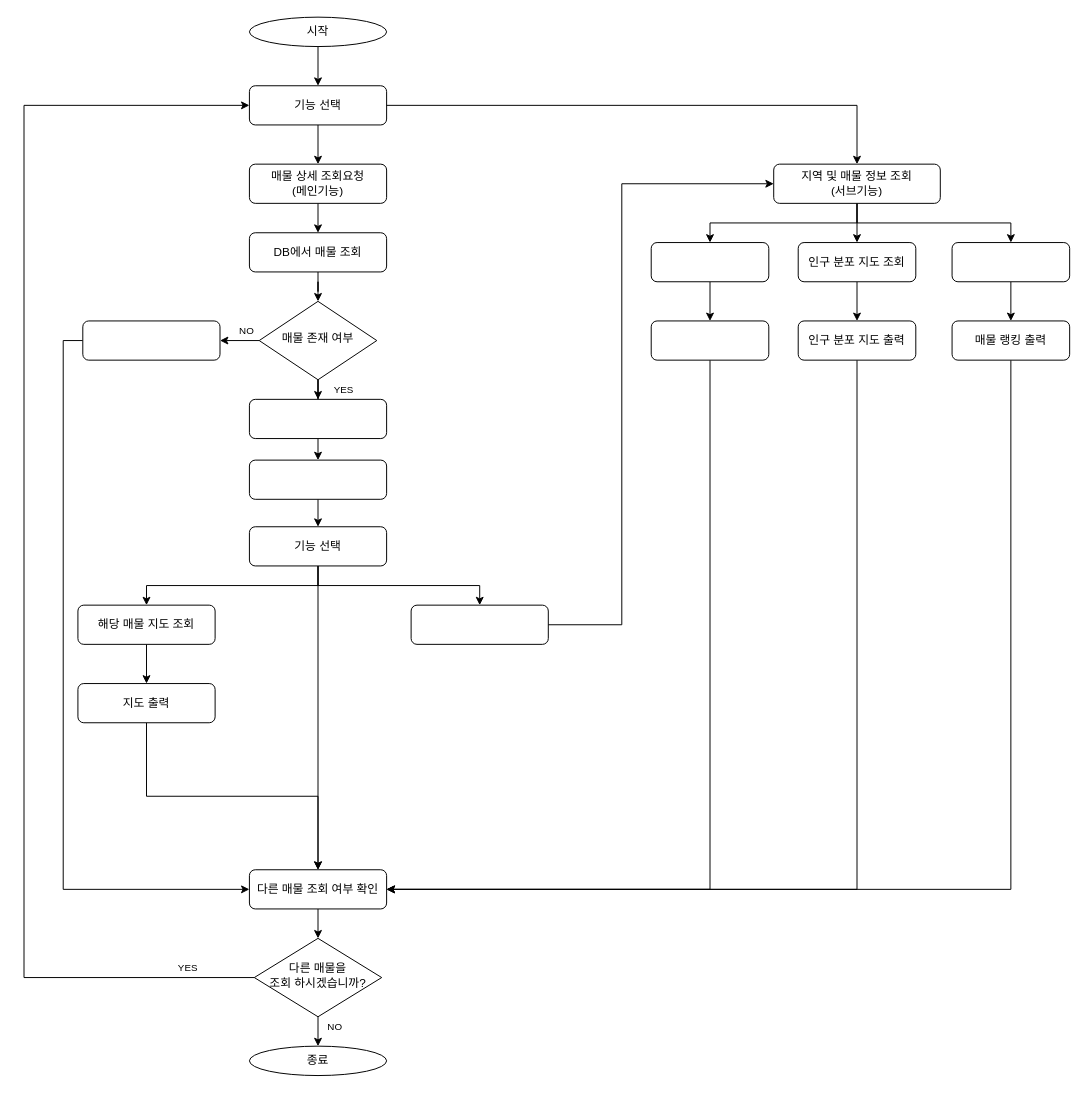
Image size: 1087x1093. Some labels were removed from this diagram. The box of each missing label's shape, as (x1, y1, x2, y2) in pixels:
매물 랭킹 조회: (951, 242, 1070, 282)
매물 정보 없음: (82, 320, 220, 360)
매물 정보 출력: (248, 398, 387, 439)
유동인구 그래프 조회: (650, 242, 769, 282)
유동인구 그래프 출력: (650, 320, 769, 360)
조회 매물 DB 저장: (248, 459, 387, 499)
해당 매물 지역 정보 조회: (410, 604, 548, 644)
